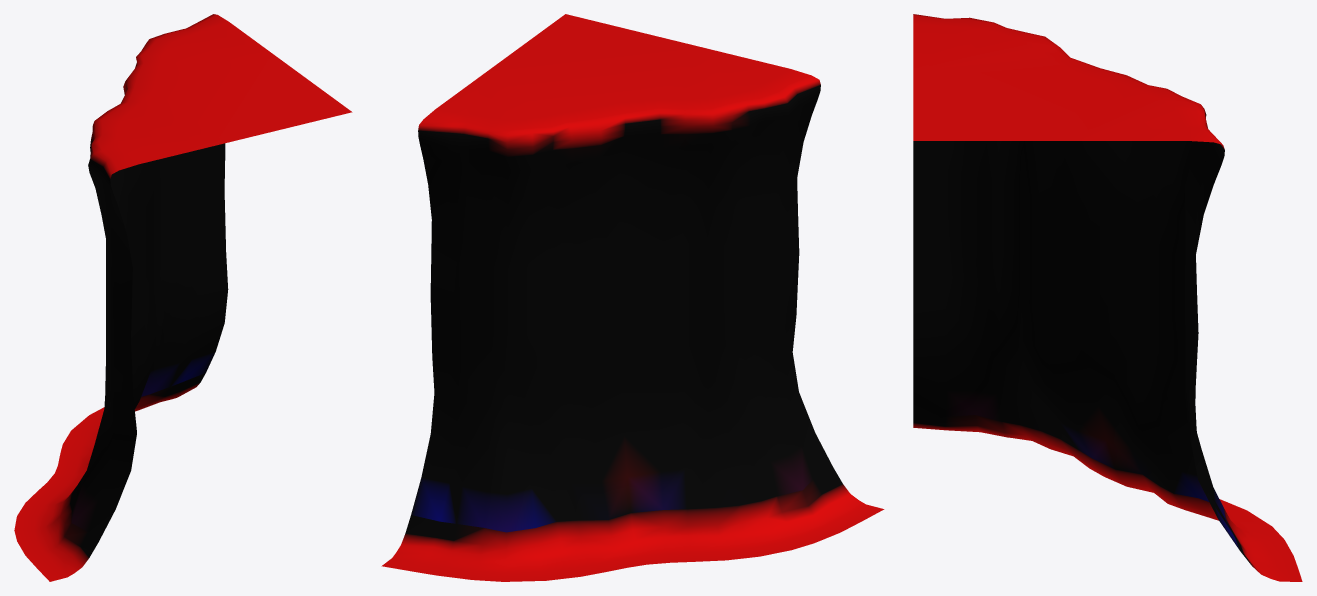
The model's file is GroundCliff03A 3M Background.fbx.
3 renders of one model, left to right at view 1: azimuth 30°, elevation 25°; view 2: azimuth 150°, elevation 25°; view 3: azimuth 270°, elevation 25°, orthographic. The views are drawn at different scales.
Visible parts, largest first — view 1: GroundCliff03A 3M Background; view 2: GroundCliff03A 3M Background; view 3: GroundCliff03A 3M Background.
Boxes of the visible parts, x1=… form: GroundCliff03A 3M Background: x1=14, y1=14, x2=352, y2=581; GroundCliff03A 3M Background: x1=381, y1=14, x2=884, y2=581; GroundCliff03A 3M Background: x1=913, y1=14, x2=1302, y2=581.
Bounding box in the file's own units: 2.4 × 3 × 2.4.
